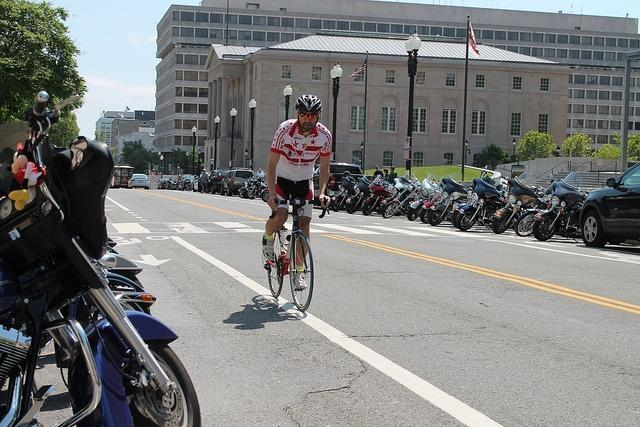bicycle: (268, 200, 322, 311)
car: (579, 159, 640, 247), (127, 174, 149, 190), (180, 174, 194, 186)
motorcycle: (0, 89, 201, 422), (534, 170, 592, 241), (492, 171, 538, 234), (426, 174, 468, 227), (382, 173, 421, 219), (407, 172, 442, 222), (516, 196, 550, 238), (377, 176, 414, 214), (362, 175, 393, 216), (344, 176, 372, 214), (420, 181, 444, 223), (331, 176, 357, 212), (262, 187, 270, 202)
